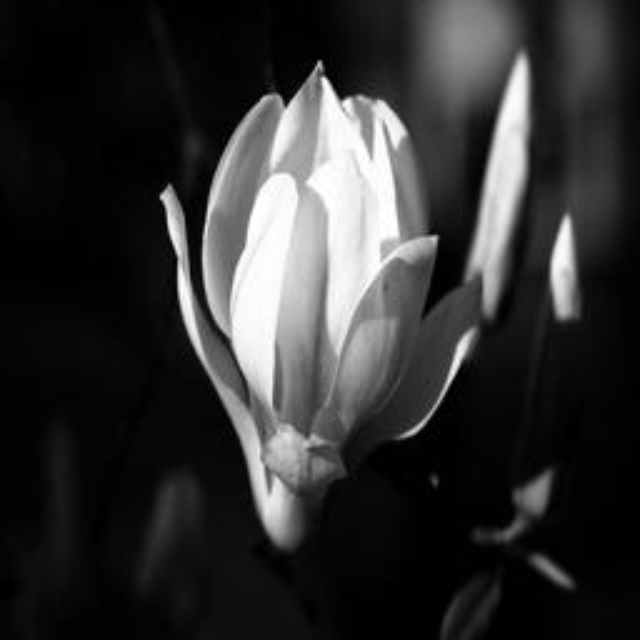magnolia: (161, 58, 486, 569)
